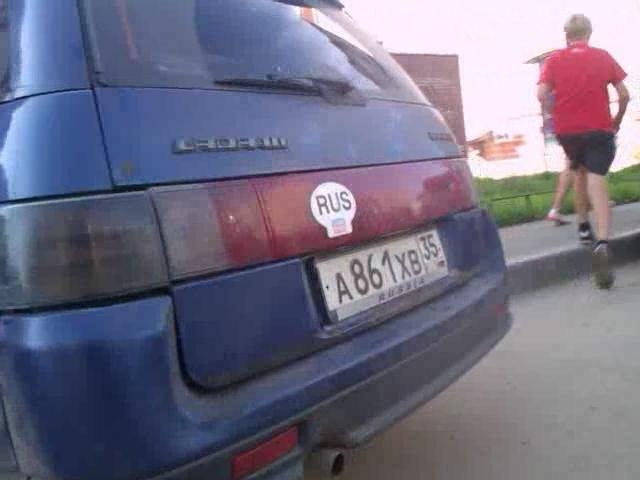car license plate: (314, 224, 451, 325)
